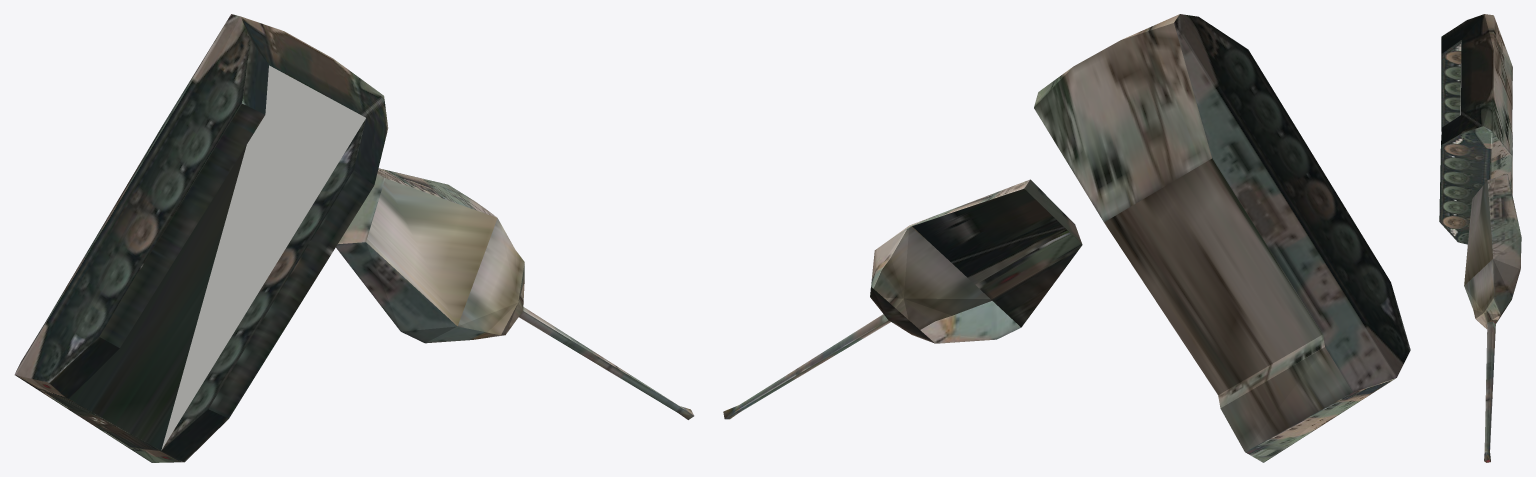
The model's file is TAM.Destruido.glb.
3 renders of one model, left to right at view 1: azimuth 30°, elevation 25°; view 2: azimuth 150°, elevation 25°; view 3: azimuth 270°, elevation 25°, orthographic. The views are drawn at different scales.
Parts seen in each view (by area): view 1: TAMDestruido; view 2: TAMDestruido; view 3: TAMDestruido.
Boxes of the visible parts, box(x1,y1,x2,y2) form: TAMDestruido: box(14, 14, 694, 462); TAMDestruido: box(723, 14, 1410, 462); TAMDestruido: box(1439, 14, 1521, 462).
Size of the model in its own units: 12.09 by 8.8 by 2.08.
Materials: 1 (1 with a texture image).
